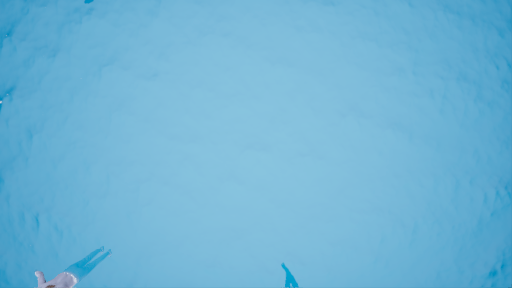person: (33, 241, 115, 288)
